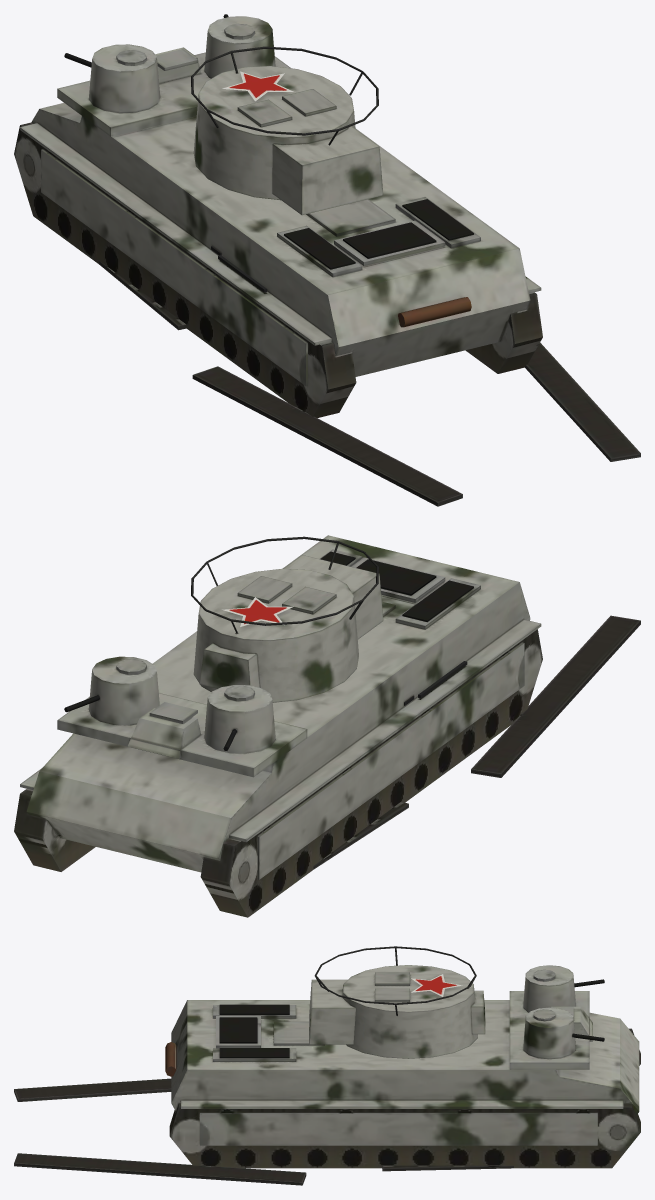
File: t28_winter.glb
3 renders of one model, top to bottom at view 1: azimuth 30°, elevation 25°; view 2: azimuth 150°, elevation 25°; view 3: azimuth 270°, elevation 25°, orthographic. The views are drawn at different scales.
Visible parts, largest first — view 1: hull_ok, turret_ok, hull_trackL, hull_trackR; view 2: hull_ok, turret_ok, hull_trackL; view 3: hull_ok, turret_ok, hull_trackR, hull_trackL.
Boxes of the visible parts, left/top/right/bottom form: hull_ok: left=14, top=14, right=542, bottom=417; turret_ok: left=191, top=46, right=383, bottom=215; hull_trackL: left=98, top=260, right=462, bottom=506; hull_trackR: left=525, top=342, right=640, bottom=461; hull_ok: left=14, top=535, right=542, bottom=917; turret_ok: left=191, top=536, right=383, bottom=702; hull_trackL: left=313, top=615, right=640, bottom=869; hull_ok: left=165, top=965, right=640, bottom=1168; turret_ok: left=309, top=946, right=485, bottom=1058; hull_trackR: left=14, top=1153, right=513, bottom=1185; hull_trackL: left=14, top=1078, right=171, bottom=1101.
Size of the model in its own units: 4.17 by 2.99 by 9.78.
Materials: 11 (11 with a texture image).
